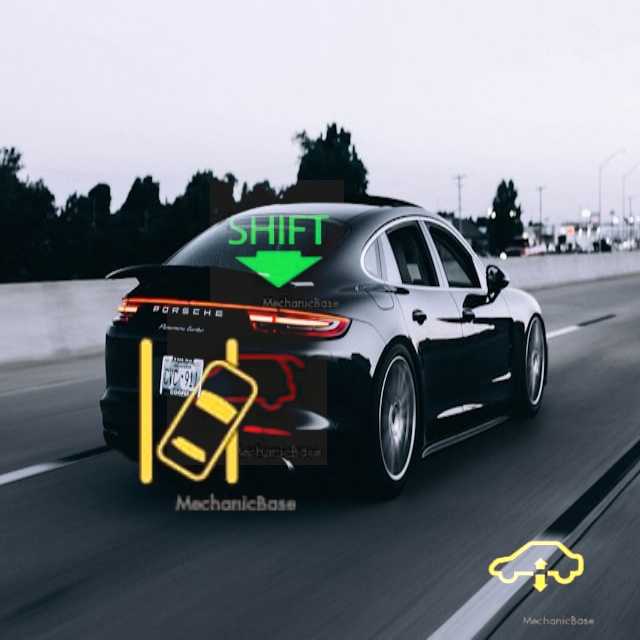symbol: (93, 310, 304, 521), (167, 305, 327, 465), (210, 180, 344, 314), (473, 505, 599, 631)
